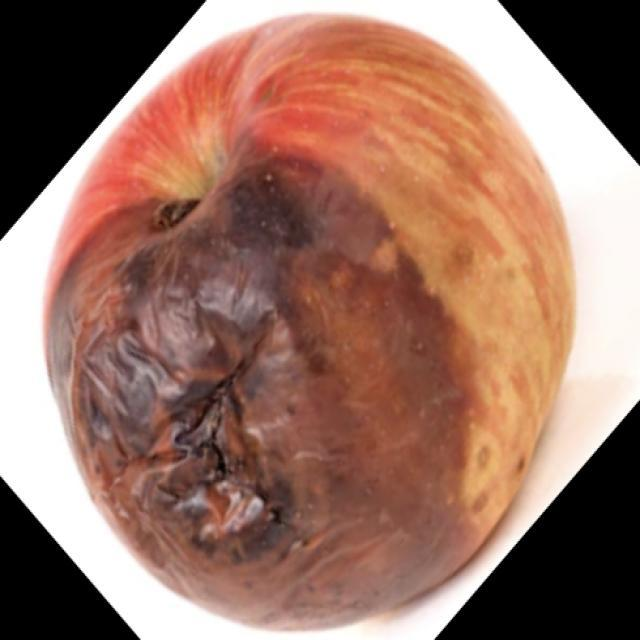Rotten: (68, 22, 552, 635)
